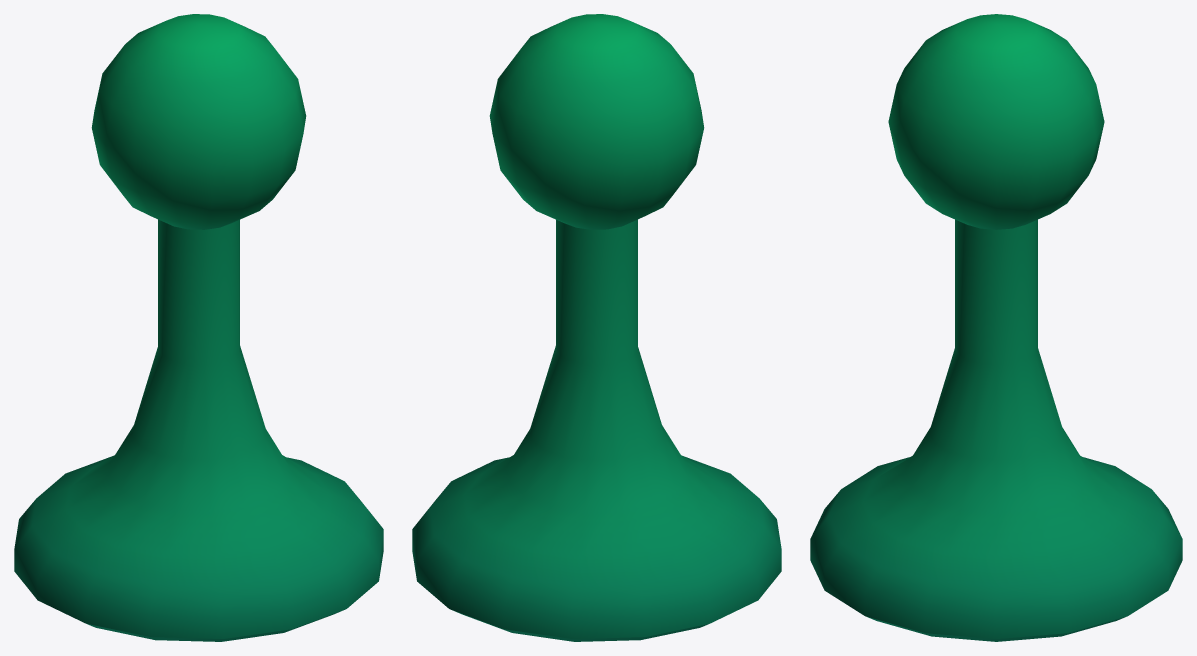
The model's file is pawn_B_green.obj.
3 views of the same model, side by side, from view 1: azimuth 30°, elevation 25°; view 2: azimuth 150°, elevation 25°; view 3: azimuth 270°, elevation 25° (orthographic).
Visible parts, largest first — view 1: pawn_B_green; view 2: pawn_B_green; view 3: pawn_B_green.
Boxes of the visible parts, <box> form: pawn_B_green: <box>14,14,383,641</box>; pawn_B_green: <box>412,14,781,641</box>; pawn_B_green: <box>810,14,1182,641</box>.
Size of the model in its own units: 0.75 by 1.21 by 0.75.
Materials: 1 (1 with a texture image).
